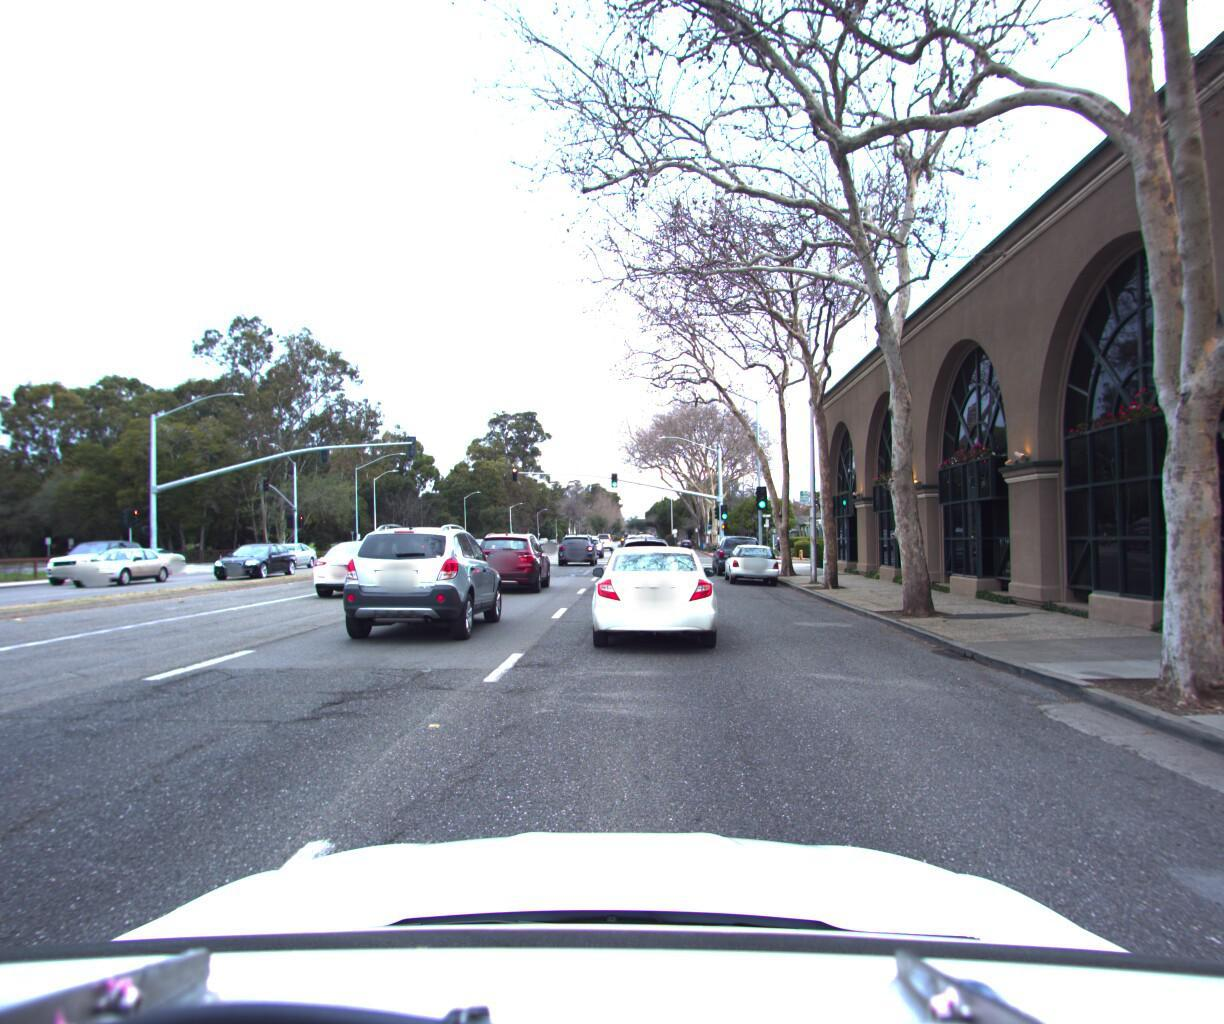car: (331, 513, 510, 650), (590, 536, 724, 659), (308, 534, 426, 596), (469, 524, 556, 592), (30, 536, 149, 582), (60, 544, 180, 589), (606, 530, 678, 597), (207, 541, 301, 580), (718, 537, 783, 582), (707, 527, 764, 573), (259, 538, 322, 568), (553, 527, 599, 562), (121, 543, 192, 563), (592, 529, 623, 555)
